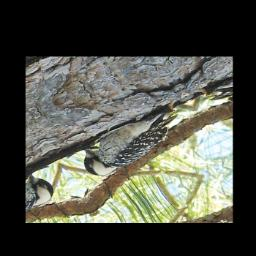Woodpecker: (71, 103, 195, 182)
